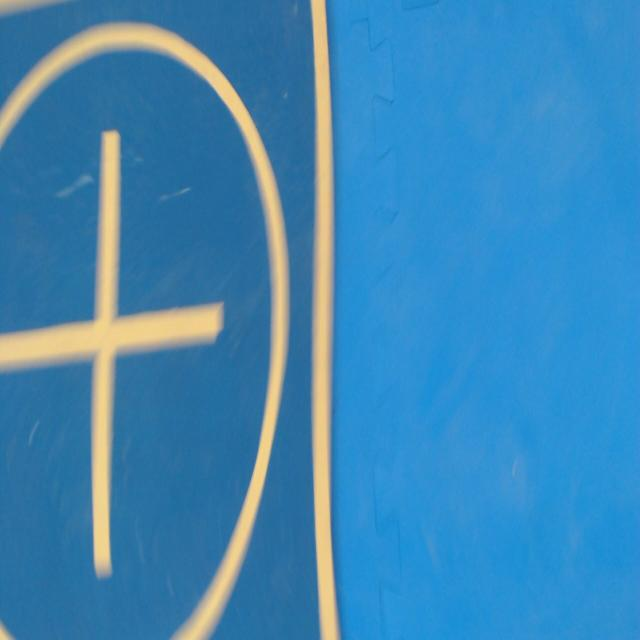base_pouso: (0, 0, 342, 639)
